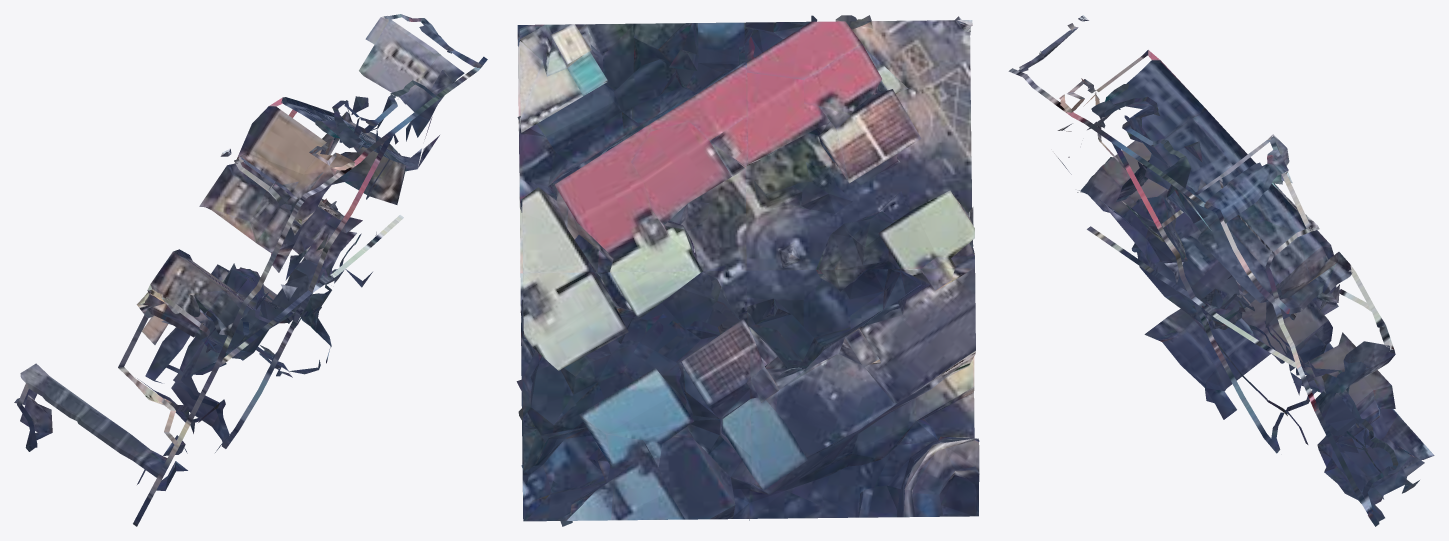
The picture shows the model from 3 angles, left to right: view 1: azimuth 30°, elevation 25°; view 2: azimuth 150°, elevation 25°; view 3: azimuth 270°, elevation 25°; orthographic projection. The views are drawn at different scales.
Size of the model in its own units: 88.72 by 76.93 by 74.72.
1 material, 1 textured.
